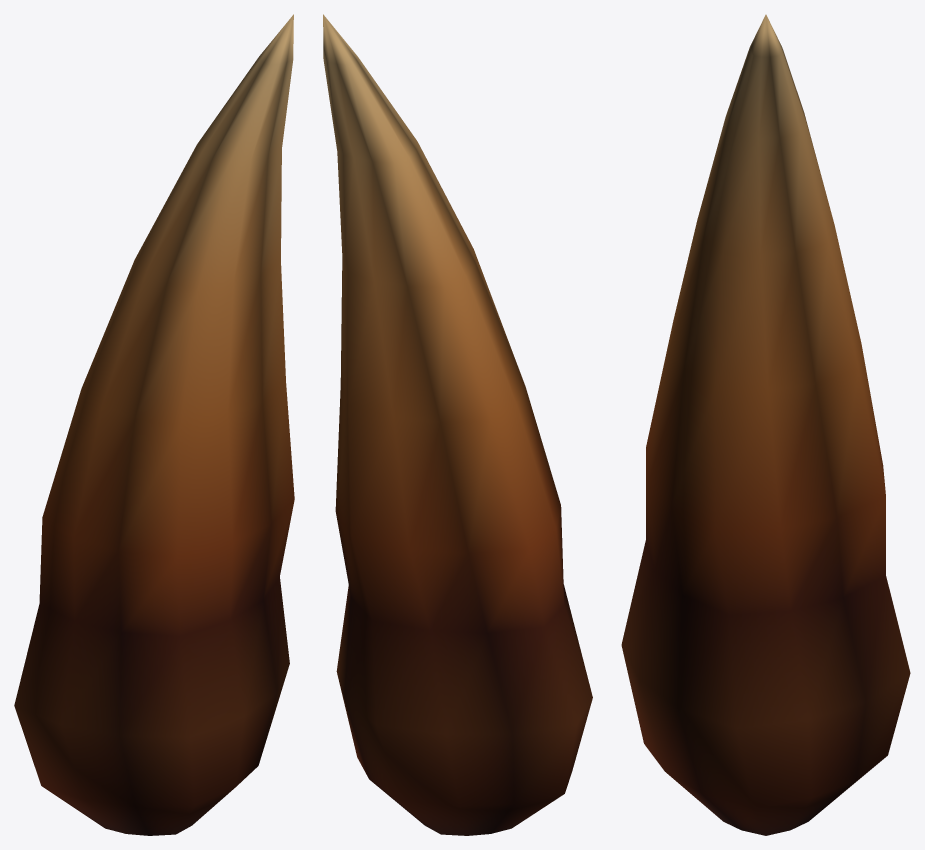
File: cinder_thorn.glb
The picture shows the model from 3 angles, left to right: view 1: azimuth 30°, elevation 25°; view 2: azimuth 150°, elevation 25°; view 3: azimuth 270°, elevation 25°; orthographic projection. The views are drawn at different scales.
Parts seen in each view (by area): view 1: CinderThorn; view 2: CinderThorn; view 3: CinderThorn.
Boxes of the visible parts, x1,y1,x2,y2 form: CinderThorn: (14, 14, 294, 835); CinderThorn: (323, 14, 592, 835); CinderThorn: (621, 14, 910, 835).
Size of the model in its own units: 0.2107 by 0.58 by 0.1737.
